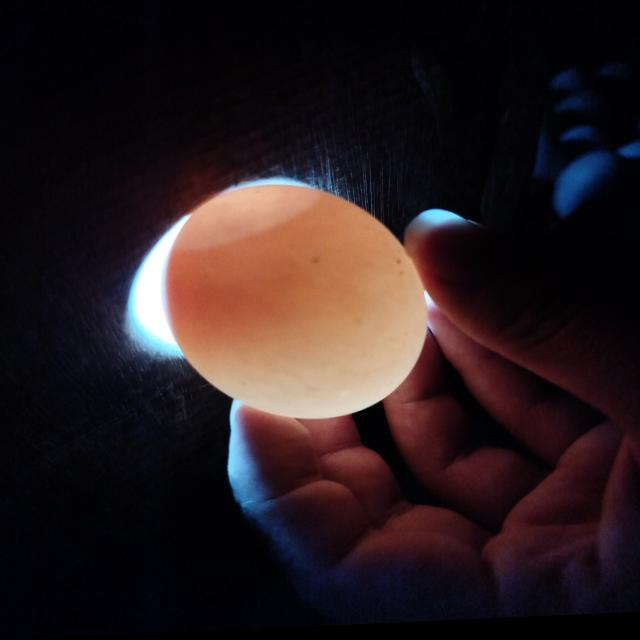Camara de Ar: (171, 187, 325, 252)
